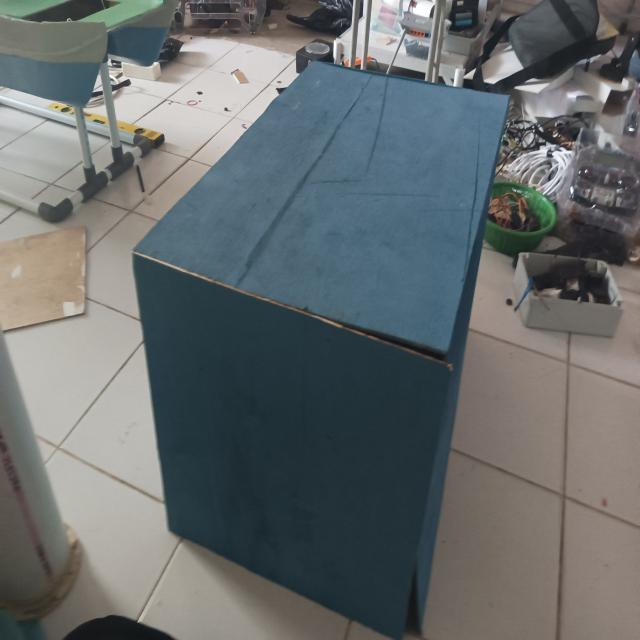blue_box: (117, 24, 521, 640)
